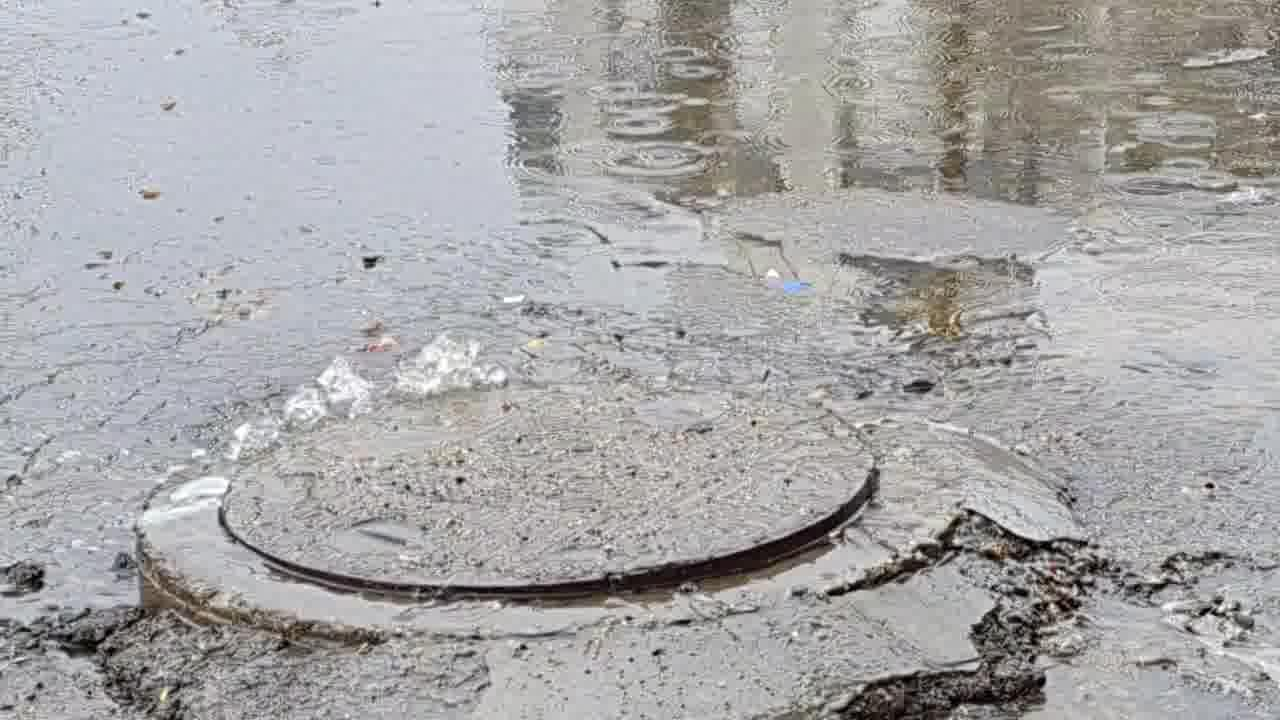drainage_overflow: (0, 259, 1052, 656)
